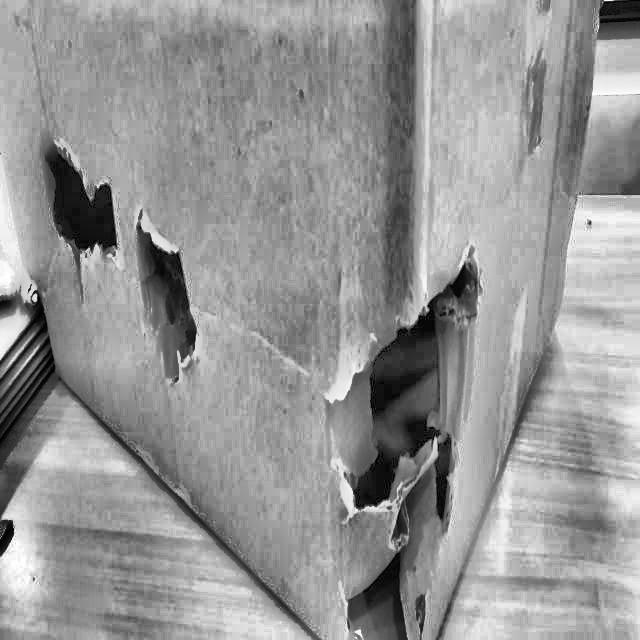box: (0, 0, 618, 639)
hole: (327, 235, 483, 545), (129, 199, 202, 403), (41, 132, 120, 310), (336, 520, 429, 640)
